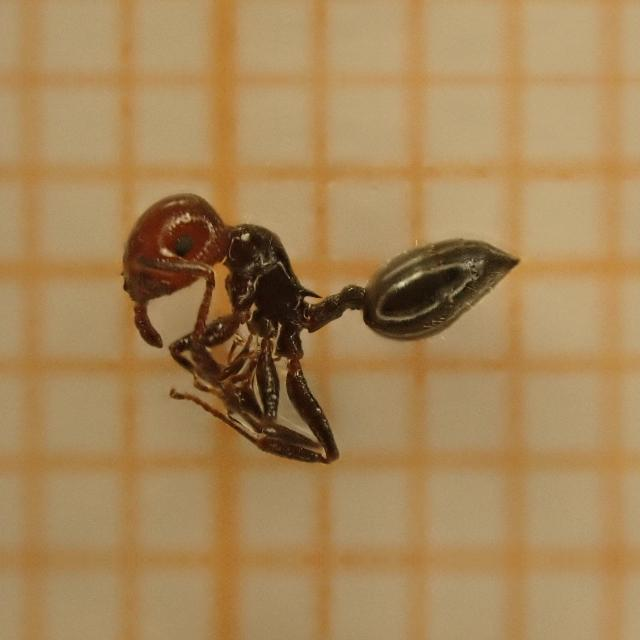Crematogaster: (109, 195, 524, 438)
